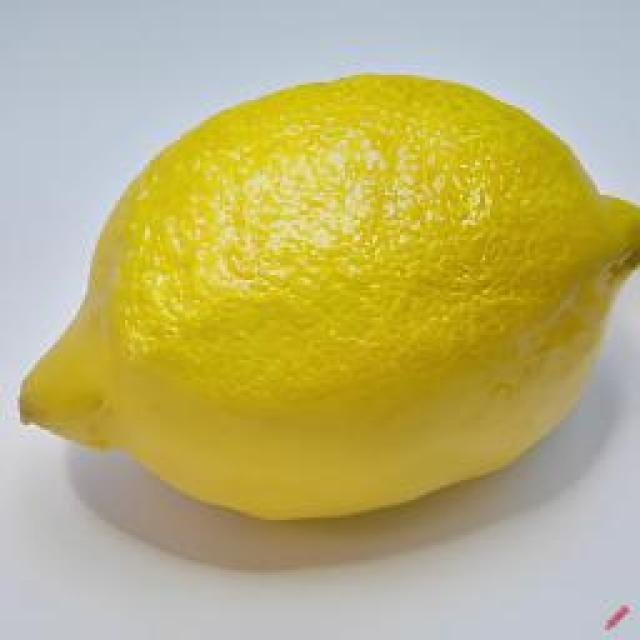Lemon: (16, 74, 640, 525)
